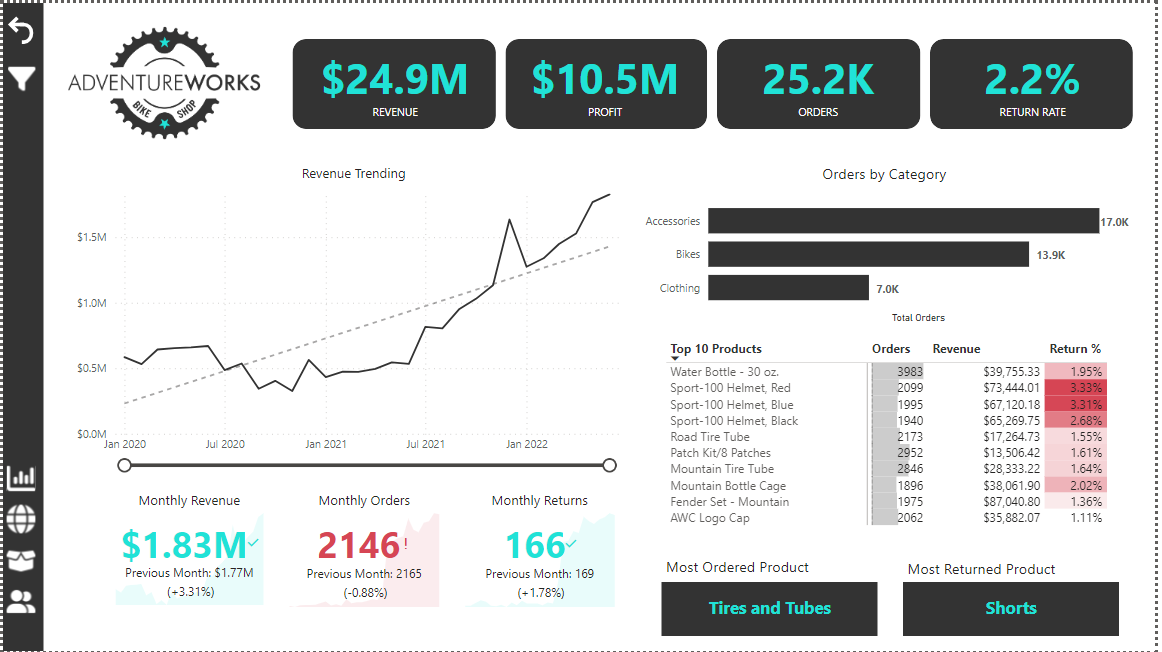

This screenshot's page, from the dashboard's own definition file:
{"tool":"powerbi","page":{"name":"Exec Dashboard","canvas":[1280,720],"ordinal":0},"visuals":[{"type":"image","title":"AW Logo","box":[44,0,272,178],"z":0},{"type":"group","id":"g1","title":"KPI Background","box":[322,40,934,100.2],"z":0,"group":"g3"},{"type":"shape","box":[322,40,226,100],"z":0,"group":"g1"},{"type":"card","title":"Revenue","fields":{"Values":["Measure Table.Total Revenue"]},"box":[338,40,194,100],"z":0,"group":"g2"},{"type":"actionButton","box":[0,553.9,45.7,40],"z":0,"group":"g4"},{"type":"group","id":"g2","title":"KPI Values","box":[338,40,902,100],"z":1000,"group":"g3"},{"type":"shape","box":[558.8,40,224,100],"z":1000,"group":"g1"},{"type":"card","title":"Profit","fields":{"Values":["Measure Table.Total Profit"]},"box":[572,40,194,100],"z":1000,"group":"g2"},{"type":"actionButton","box":[0.1,599.4,45,40],"z":1000,"group":"g4"},{"type":"card","fields":{"Values":["Min(Product Subcategories Lookup.SubcategoryName)"]},"box":[732,644,240,60],"z":1000},{"type":"shape","box":[793.7,40,226,100],"z":2000,"group":"g1"},{"type":"card","title":"Orders","fields":{"Values":["Measure Table.Total Orders"]},"box":[808,40,194,100],"z":2000,"group":"g2"},{"type":"card","fields":{"Values":["Min(Product Subcategories Lookup.SubcategoryName)"]},"box":[1000,644,240,60],"z":2000},{"type":"actionButton","box":[0.1,645,45,40],"z":2000,"group":"g4"},{"type":"shape","title":"Left Nav Background","box":[0,0,45,720.4],"z":3000},{"type":"shape","box":[1030.5,40,225.5,100.2],"z":3000,"group":"g1"},{"type":"card","title":"Return Rate","fields":{"Values":["Measure Table.Return Rate"]},"box":[1046,40,194,100],"z":3000,"group":"g2"},{"type":"actionButton","box":[0.1,508.3,45,40],"z":3000,"group":"g4"},{"type":"textbox","box":[732,610,188,36],"z":4000},{"type":"textbox","box":[1000,612,192,34],"z":5000},{"type":"group","id":"g3","title":"KPI","box":[322,40,934,100.2],"z":6000},{"type":"lineChart","title":"Revenue Trending","fields":{"Y":["Measure Table.Total Revenue"],"Category":["Calendar Lookup.Year","Calendar Lookup.Start of Quarter","Calendar Lookup.Start of Month"]},"box":[76,178,626,346],"z":7000},{"type":"kpi","title":"Monthly Revenue","fields":{"TrendLine":["Calendar Lookup.Start of Month"],"Indicator":["Measure Table.Total Revenue"],"Goal":["Measure Table.Previous Month Revenue"]},"box":[120,542,174,132],"z":8000},{"type":"kpi","title":"Monthly Orders","fields":{"TrendLine":["Calendar Lookup.Start of Month"],"Indicator":["Measure Table.Total Orders"],"Goal":["Measure Table.Previous Month Orders"]},"box":[313,542,176,134],"z":9000},{"type":"kpi","title":"Monthly Returns","fields":{"TrendLine":["Calendar Lookup.Start of Month"],"Indicator":["Measure Table.Total Returns"],"Goal":["Measure Table.Previous Month Returns"]},"box":[508,542,176,134],"z":10000},{"type":"clusteredBarChart","title":"Orders by Category","fields":{"Category":["Product Categories Lookup.CategoryName"],"Y":["Measure Table.Total Orders"]},"box":[704,178,552,182],"z":11000},{"type":"pivotTable","fields":{"Rows":["Product Lookup.ProductName"],"Values":["Measure Table.Total Orders","Measure Table.Total Revenue","Measure Table.Return Rate"]},"box":[732,368,524,218],"z":12000},{"type":"actionButton","box":[0,10,44.3,40],"z":13000},{"type":"group","id":"g4","title":"Navigation Buttons","box":[0,508.3,45.7,176.7],"z":14000},{"type":"actionButton","box":[1.7,65,43.3,38.3],"z":15000}]}

Visuals, with their boxes on the page's 1280x720 design canvas (x1, y1, x2, y2). These are canvas units, not pixel positions in the 1162x652 screenshot, which may show the page scaled, cropped or inside an application window:
"AW Logo" image: [44, 0, 316, 178]
"KPI Background" group: [322, 40, 1256, 140]
shape: [322, 40, 548, 140]
"Revenue" card: [338, 40, 532, 140]
actionButton: [0, 554, 46, 594]
"KPI Values" group: [338, 40, 1240, 140]
shape: [559, 40, 783, 140]
"Profit" card: [572, 40, 766, 140]
actionButton: [0, 599, 45, 639]
card - Min(Product Subcategories Lookup.SubcategoryName): [732, 644, 972, 704]
shape: [794, 40, 1020, 140]
"Orders" card: [808, 40, 1002, 140]
card - Min(Product Subcategories Lookup.SubcategoryName): [1000, 644, 1240, 704]
actionButton: [0, 645, 45, 685]
"Left Nav Background" shape: [0, 0, 45, 720]
shape: [1030, 40, 1256, 140]
"Return Rate" card: [1046, 40, 1240, 140]
actionButton: [0, 508, 45, 548]
textbox: [732, 610, 920, 646]
textbox: [1000, 612, 1192, 646]
"KPI" group: [322, 40, 1256, 140]
"Revenue Trending" lineChart: [76, 178, 702, 524]
"Monthly Revenue" kpi: [120, 542, 294, 674]
"Monthly Orders" kpi: [313, 542, 489, 676]
"Monthly Returns" kpi: [508, 542, 684, 676]
"Orders by Category" clusteredBarChart: [704, 178, 1256, 360]
pivotTable - Product Lookup.ProductName x Measure Table.Total Orders: [732, 368, 1256, 586]
actionButton: [0, 10, 44, 50]
"Navigation Buttons" group: [0, 508, 46, 685]
actionButton: [2, 65, 45, 103]
